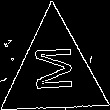M_W: (31, 47, 77, 96)
